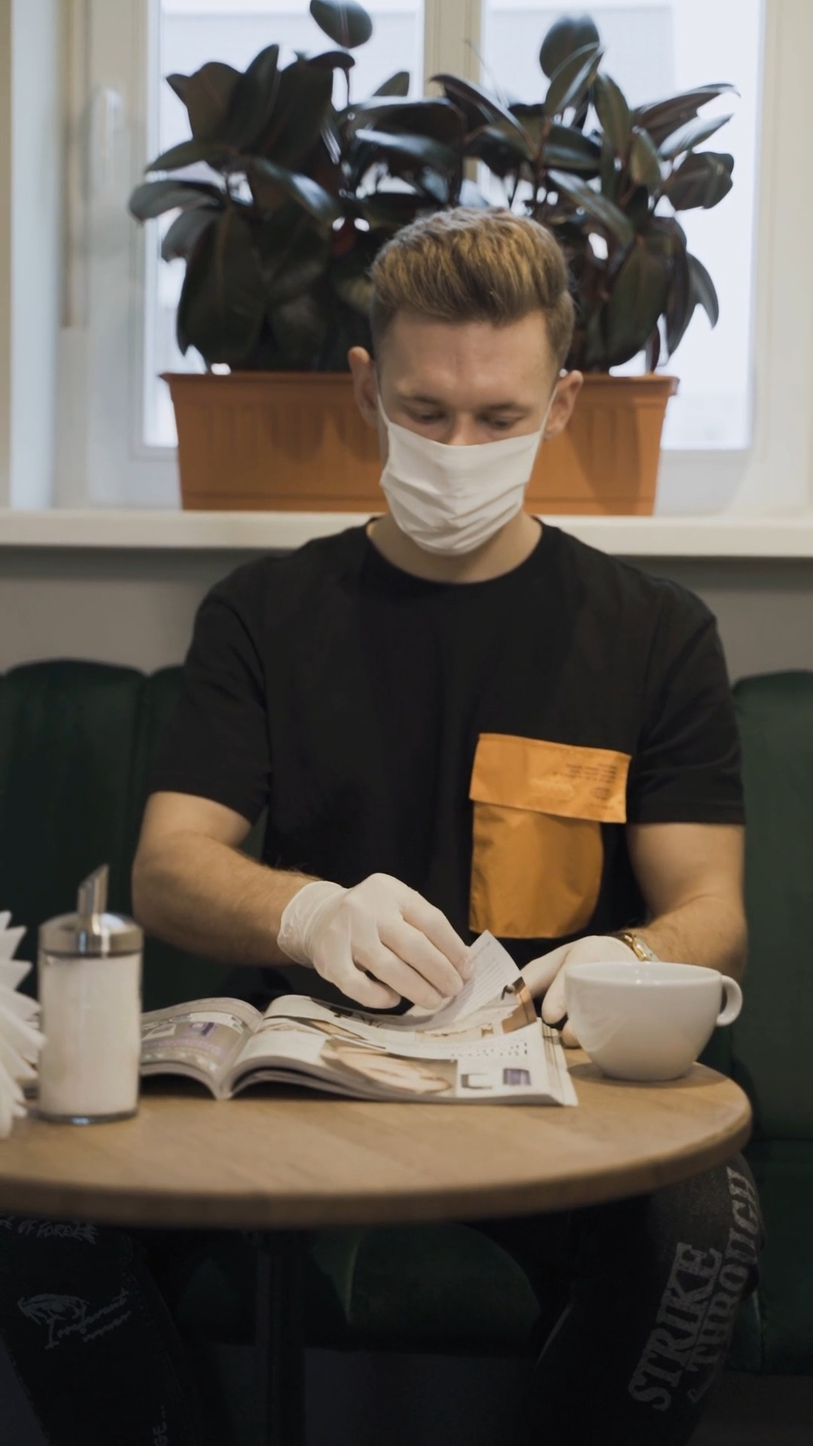gloves: (246, 836, 484, 1021)
